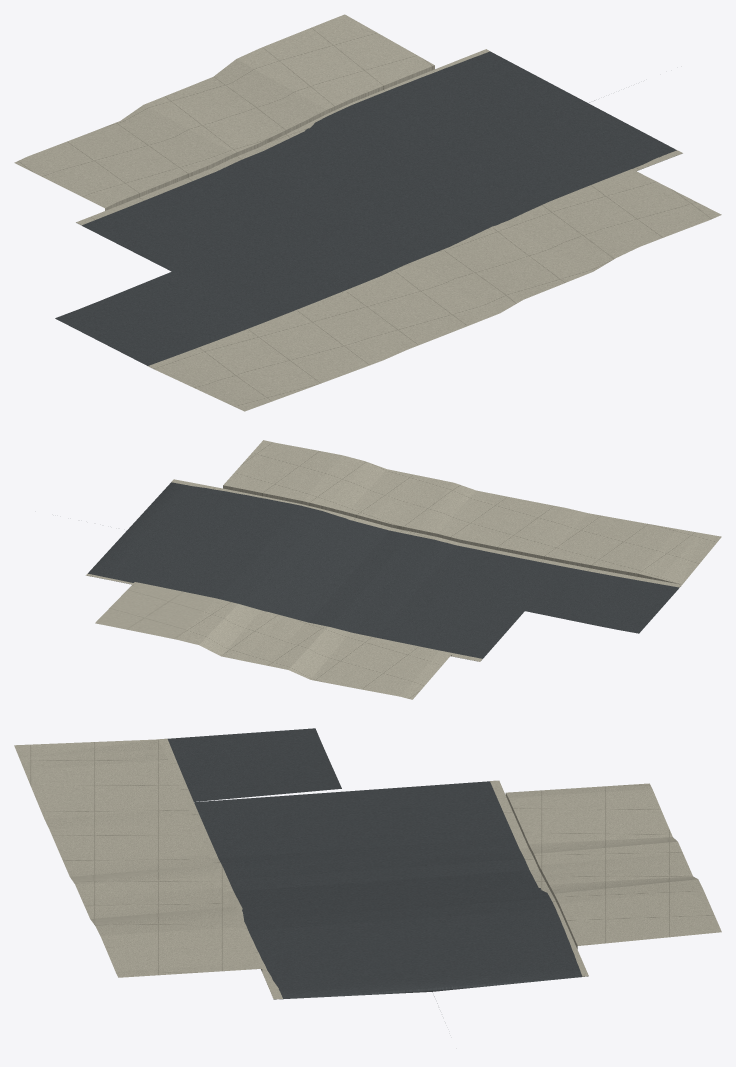
3 views of the same model, one above another, from view 1: azimuth 30°, elevation 25°; view 2: azimuth 150°, elevation 25°; view 3: azimuth 270°, elevation 25° (orthographic). The views are drawn at different scales.
Parts seen in each view (by area): view 1: Carriageway, Clipped sidewalks with lowered crossing approaches, Concrete drainage margins, Raised curb faces; view 2: Carriageway, Clipped sidewalks with lowered crossing approaches, Concrete drainage margins, Raised curb faces; view 3: Carriageway, Clipped sidewalks with lowered crossing approaches, Concrete drainage margins.
Boxes of the visible parts, <box> form: Carriageway: <box>55,51,676,365</box>; Clipped sidewalks with lowered crossing approaches: <box>14,14,721,411</box>; Concrete drainage margins: <box>76,49,682,368</box>; Raised curb faces: <box>105,65,434,210</box>; Carriageway: <box>87,482,680,661</box>; Clipped sidewalks with lowered crossing approaches: <box>95,440,721,699</box>; Concrete drainage margins: <box>86,479,681,661</box>; Raised curb faces: <box>223,485,679,656</box>; Carriageway: <box>167,728,587,1003</box>; Clipped sidewalks with lowered crossing approaches: <box>14,739,721,977</box>; Concrete drainage margins: <box>158,738,588,999</box>.
Size of the model in its own units: 26.63 by 1.39 by 22.17.
